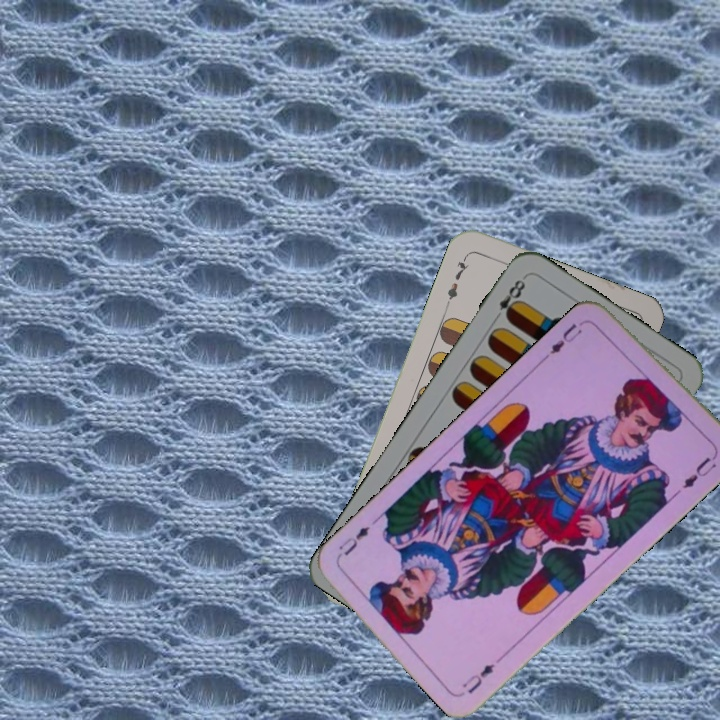E7: (441, 252, 472, 308)
E8: (489, 273, 528, 325)
EU: (541, 316, 590, 361), (457, 659, 497, 697)
